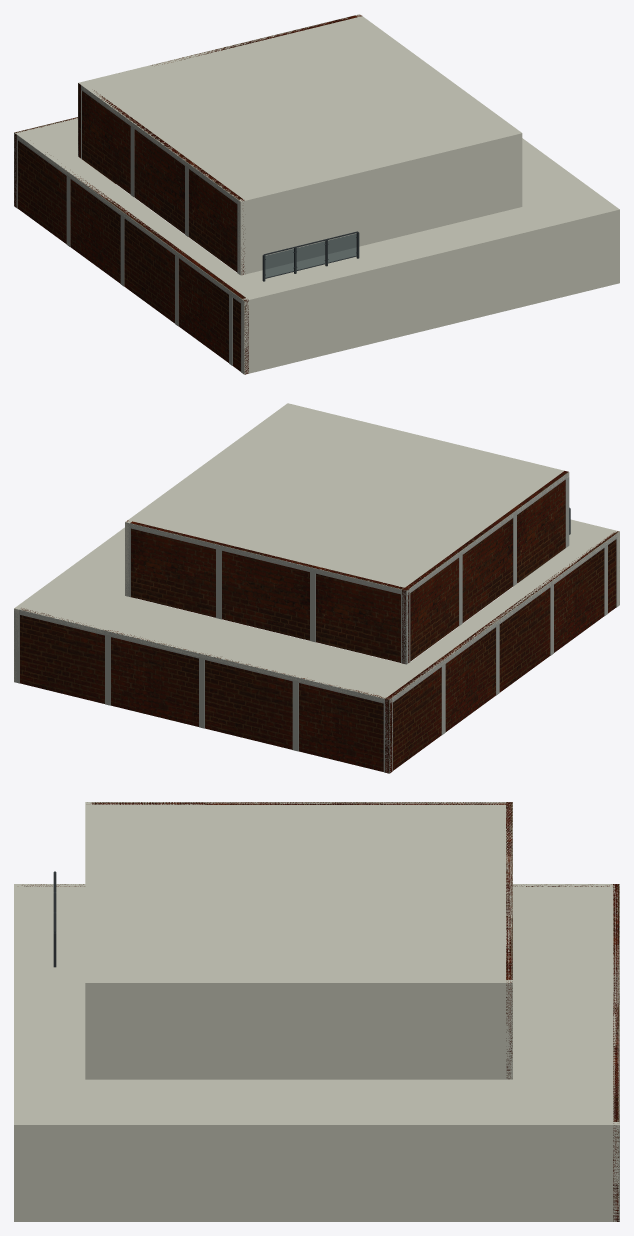
Rendered from building.glb.
The picture shows the model from 3 angles, top to bottom: view 1: azimuth 30°, elevation 25°; view 2: azimuth 150°, elevation 25°; view 3: azimuth 270°, elevation 25°; orthographic projection. The views are drawn at different scales.
Visible parts, largest first — view 1: roof/upper:0/roof_slab#0001, lower:0/edge0/z0/lower:0/edge0/z0/wall_0_0, upper:0/edge0/z3/upper:0/edge0/z3/wall_0_0, roof/lower:0/roof_slab#0001, lower:0/edge3/z0/lower:0/edge3/z0/wall_0_0, upper:0/edge3/z3/upper:0/edge3/z3/wall_0_0, lower:0/edge3/z0/lower:0/edge3/z0/beam_0_0, upper:0/edge1/z3/upper:0/edge1/z3/wall_0_0, upper:0/edge3/z3/upper:0/edge3/z3/beam_0_0, lower:0/edge1/z0/lower:0/edge1/z0/wall_0_0, upper:0/edge2/z3/upper:0/edge2/z3/wall_0_0, balcony/sample/balcony_glass#0001 (+2 smaller); view 2: roof/upper:0/roof_slab#0001, lower:0/edge2/z0/lower:0/edge2/z0/wall_0_0, roof/lower:0/roof_slab#0001, upper:0/edge2/z3/upper:0/edge2/z3/wall_0_0, lower:0/edge3/z0/lower:0/edge3/z0/wall_0_0, upper:0/edge3/z3/upper:0/edge3/z3/wall_0_0, lower:0/edge2/z0/lower:0/edge2/z0/beam_0_0, upper:0/edge2/z3/upper:0/edge2/z3/beam_0_0, lower:0/edge3/z0/lower:0/edge3/z0/beam_0_0, upper:0/edge1/z3/upper:0/edge1/z3/wall_0_0, upper:0/edge3/z3/upper:0/edge3/z3/beam_0_0, upper:0/edge0/z3/upper:0/edge0/z3/wall_0_0 (+1 smaller); view 3: roof/upper:0/roof_slab#0001, roof/lower:0/roof_slab#0001, lower:0/edge1/z0/lower:0/edge1/z0/wall_0_0, upper:0/edge1/z3/upper:0/edge1/z3/wall_0_0, lower:0/edge0/z0/lower:0/edge0/z0/wall_0_0, upper:0/edge0/z3/upper:0/edge0/z3/wall_0_0, lower:0/edge2/z0/lower:0/edge2/z0/wall_0_0, upper:0/edge2/z3/upper:0/edge2/z3/wall_0_0, upper:0/edge3/z3/upper:0/edge3/z3/wall_0_0.
Part boxes in pixels (x1,y1,x2,y2): roof/upper:0/roof_slab#0001: (78, 14, 520, 204); lower:0/edge0/z0/lower:0/edge0/z0/wall_0_0: (241, 209, 619, 374); upper:0/edge0/z3/upper:0/edge0/z3/wall_0_0: (238, 132, 522, 275); roof/lower:0/roof_slab#0001: (14, 117, 618, 303); lower:0/edge3/z0/lower:0/edge3/z0/wall_0_0: (17, 140, 248, 374); upper:0/edge3/z3/upper:0/edge3/z3/wall_0_0: (82, 90, 244, 274); lower:0/edge3/z0/lower:0/edge3/z0/beam_0_0: (14, 133, 243, 303); upper:0/edge1/z3/upper:0/edge1/z3/wall_0_0: (355, 14, 522, 207); upper:0/edge3/z3/upper:0/edge3/z3/beam_0_0: (81, 85, 240, 205); lower:0/edge1/z0/lower:0/edge1/z0/wall_0_0: (522, 138, 619, 284); upper:0/edge2/z3/upper:0/edge2/z3/wall_0_0: (78, 15, 361, 158); balcony/sample/balcony_glass#0001: (265, 249, 294, 277); roof/upper:0/roof_slab#0001: (127, 404, 568, 592); lower:0/edge2/z0/lower:0/edge2/z0/wall_0_0: (20, 608, 392, 772); roof/lower:0/roof_slab#0001: (14, 520, 619, 703); upper:0/edge2/z3/upper:0/edge2/z3/wall_0_0: (127, 520, 409, 662); lower:0/edge3/z0/lower:0/edge3/z0/wall_0_0: (385, 531, 619, 773); upper:0/edge3/z3/upper:0/edge3/z3/wall_0_0: (402, 471, 568, 663); lower:0/edge2/z0/lower:0/edge2/z0/beam_0_0: (14, 609, 389, 703); upper:0/edge2/z3/upper:0/edge2/z3/beam_0_0: (125, 522, 406, 595); lower:0/edge3/z0/lower:0/edge3/z0/beam_0_0: (389, 533, 619, 704); upper:0/edge1/z3/upper:0/edge1/z3/wall_0_0: (125, 405, 289, 596); upper:0/edge3/z3/upper:0/edge3/z3/beam_0_0: (406, 472, 568, 595); upper:0/edge0/z3/upper:0/edge0/z3/wall_0_0: (285, 403, 569, 477); roof/upper:0/roof_slab#0001: (85, 802, 512, 987); roof/lower:0/roof_slab#0001: (14, 884, 619, 1129); lower:0/edge1/z0/lower:0/edge1/z0/wall_0_0: (14, 1122, 619, 1221); upper:0/edge1/z3/upper:0/edge1/z3/wall_0_0: (85, 980, 512, 1079); lower:0/edge0/z0/lower:0/edge0/z0/wall_0_0: (14, 884, 20, 1221); upper:0/edge0/z3/upper:0/edge0/z3/wall_0_0: (85, 802, 92, 1079); lower:0/edge2/z0/lower:0/edge2/z0/wall_0_0: (613, 884, 619, 1221); upper:0/edge2/z3/upper:0/edge2/z3/wall_0_0: (506, 802, 512, 1078); upper:0/edge3/z3/upper:0/edge3/z3/wall_0_0: (91, 802, 510, 804).
Size of the model in its own units: 16 by 6 by 17.
5 materials, 1 textured.
